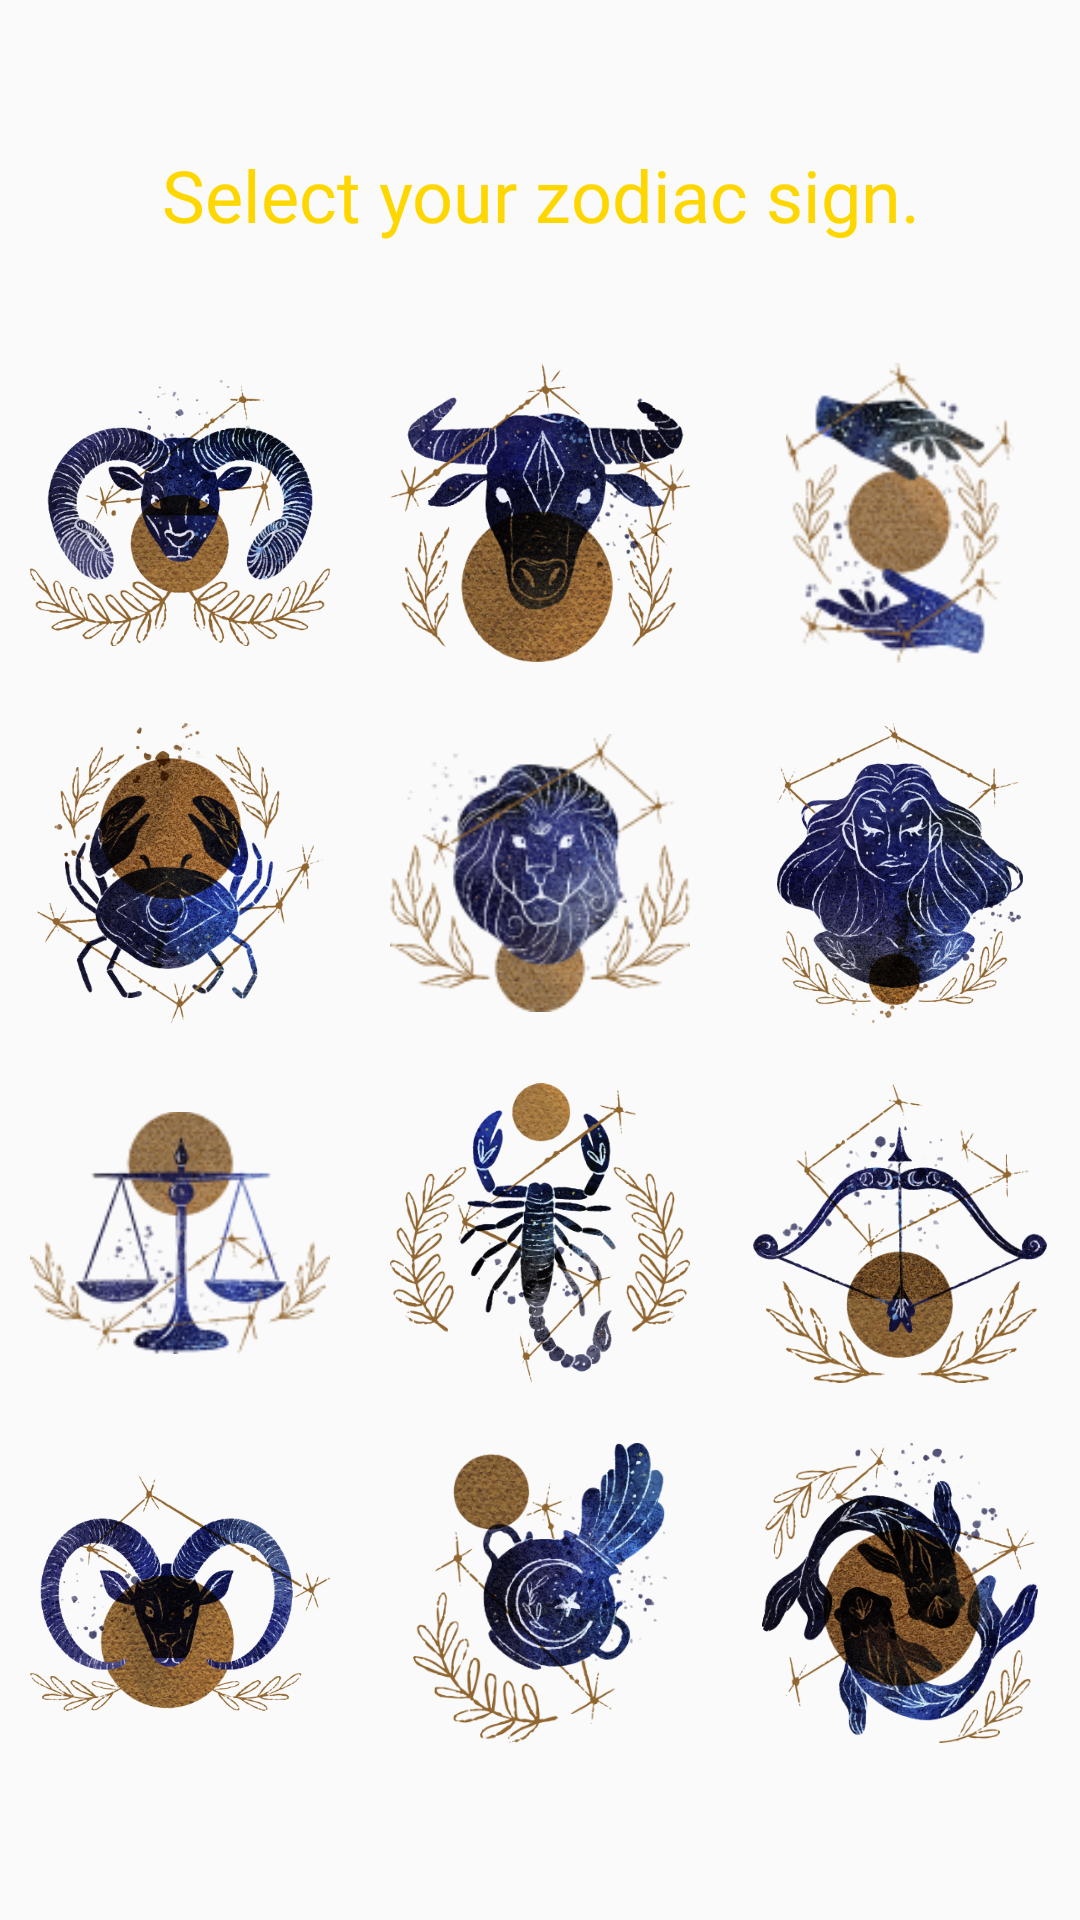

Named icons in this screenshot (1080*1920) and their bounding boxes, (x1, y1, x2, y2):
aquarius: (413, 1443, 667, 1743)
aries: (30, 380, 330, 646)
cancer: (37, 723, 319, 1023)
capricornus: (30, 1476, 330, 1711)
gemini: (786, 363, 1011, 663)
leo: (390, 734, 690, 1012)
libra: (30, 1112, 330, 1354)
pisces: (762, 1443, 1038, 1743)
sagittarius: (753, 1084, 1047, 1383)
scorpio: (390, 1083, 690, 1383)
taurus: (390, 364, 690, 662)
virgo: (777, 723, 1023, 1023)
